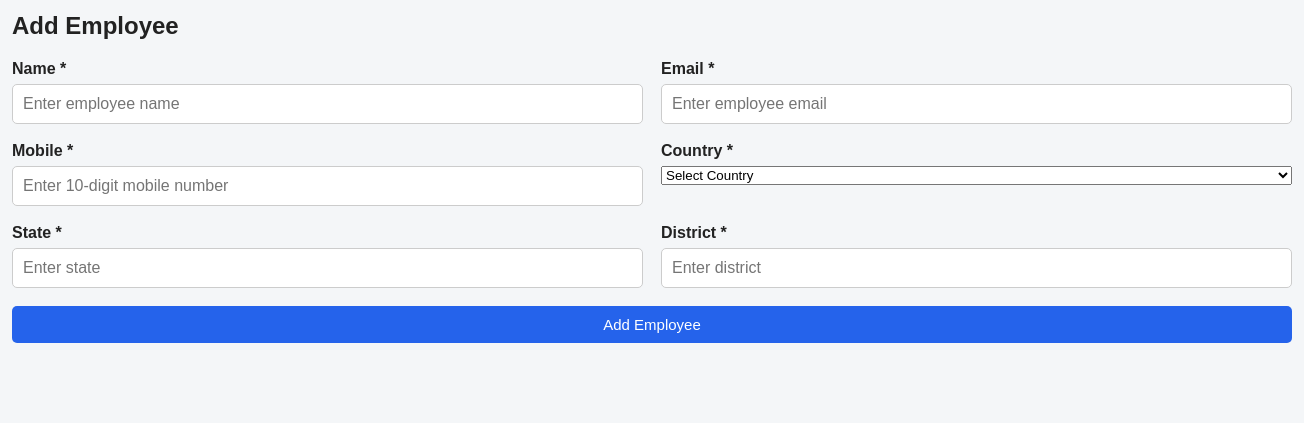
EmployeeForm › shows error for invalid email
Type "invalid-email" into the field with placeholder "Enter employee email".
click(976, 104); type("invalid-email")  # box x1=661 y1=84 x2=1292 y2=124
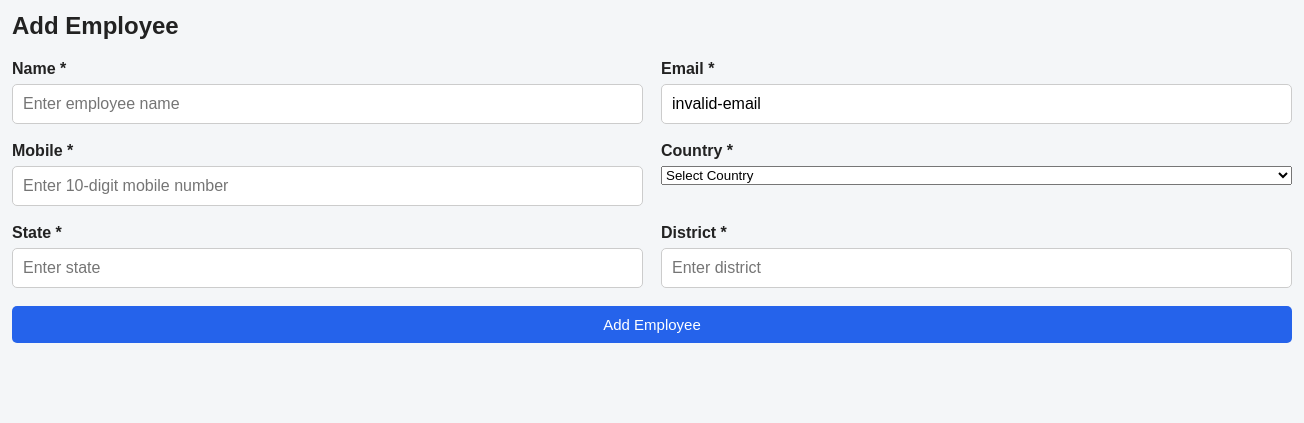
Click the button "Add Employee".
click(652, 324)  # box x1=12 y1=306 x2=1292 y2=343
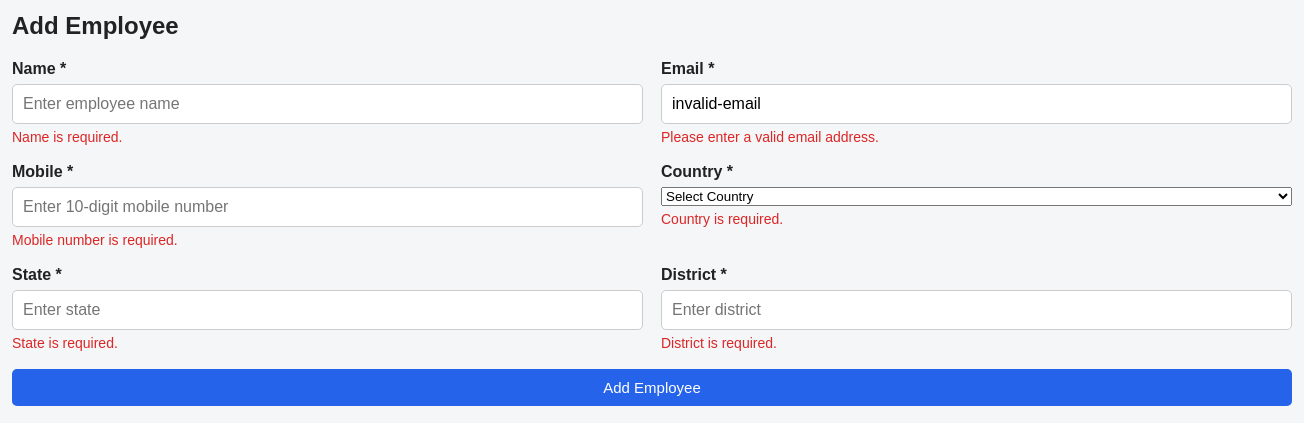
Expected: the text "Please enter a valid email address." is shown, x1=661 y1=129 x2=879 y2=145
